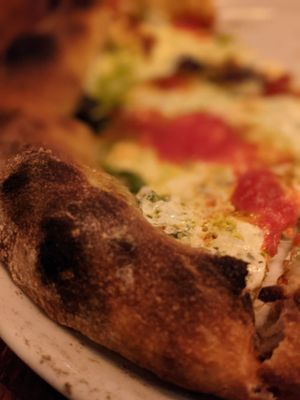sandwich: (0, 41, 300, 397)
